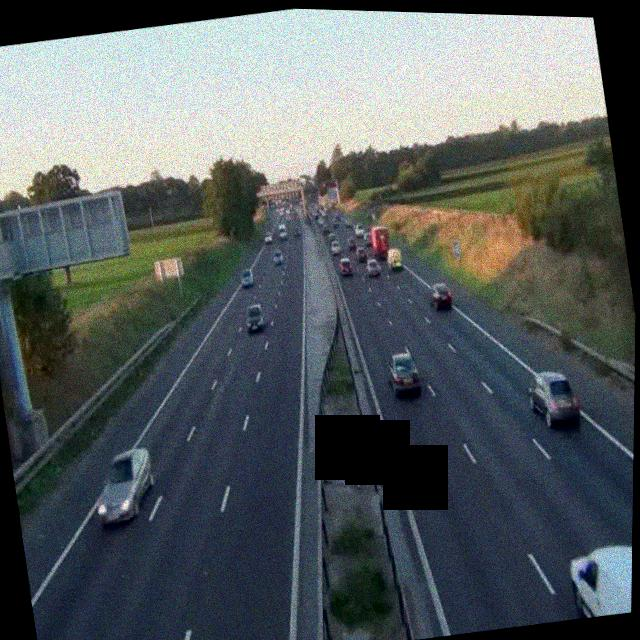car: (89, 446, 161, 528), (566, 535, 632, 620), (526, 368, 583, 430), (385, 350, 421, 398), (428, 281, 455, 312), (244, 303, 266, 334), (363, 257, 382, 279), (386, 248, 404, 270), (239, 266, 256, 289), (340, 258, 356, 278), (273, 247, 286, 267), (347, 238, 360, 256), (330, 240, 343, 256), (320, 222, 330, 235)
truck: (368, 226, 391, 254)
